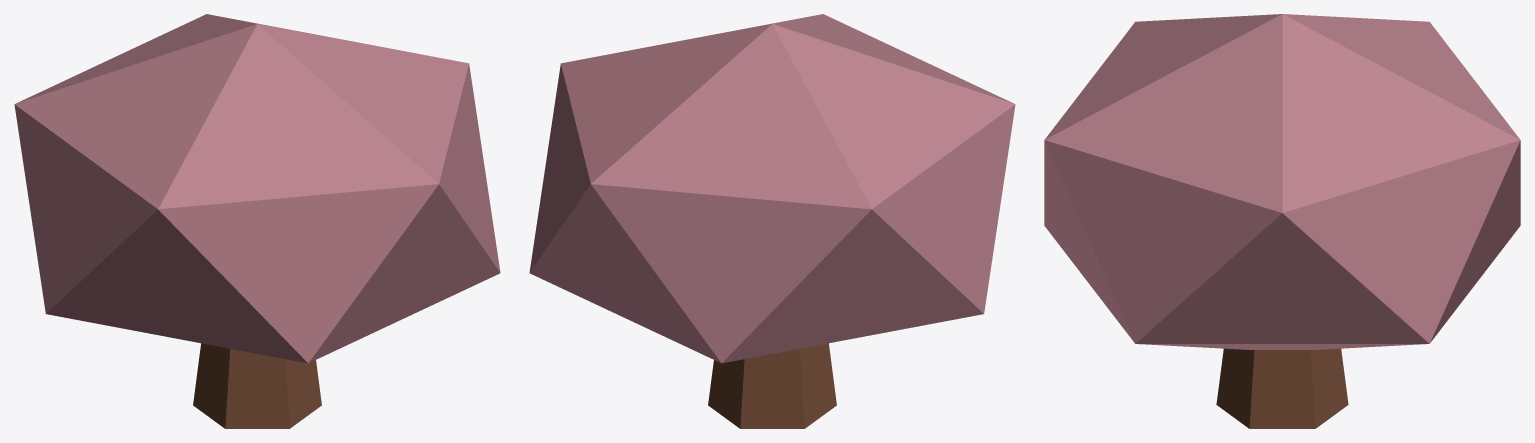
The model's file is Bush_Pink_vc.fbx.
The picture shows the model from 3 angles, left to right: view 1: azimuth 30°, elevation 25°; view 2: azimuth 150°, elevation 25°; view 3: azimuth 270°, elevation 25°; orthographic projection. The views are drawn at different scales.
Visible parts, largest first — view 1: Bush_Pink_vc; view 2: Bush_Pink_vc; view 3: Bush_Pink_vc.
Boxes of the visible parts, x1=… form: Bush_Pink_vc: x1=14, y1=14, x2=500, y2=428; Bush_Pink_vc: x1=529, y1=14, x2=1015, y2=428; Bush_Pink_vc: x1=1044, y1=14, x2=1520, y2=428.
Bounding box in the file's own units: 246 × 212 × 234.
